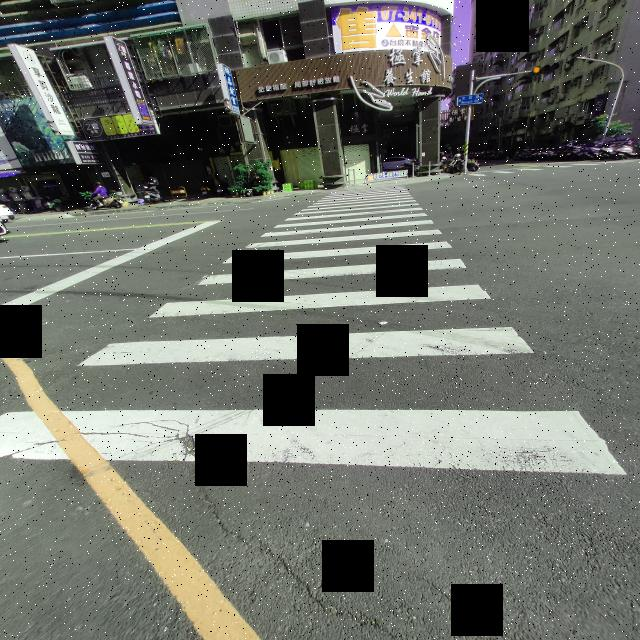zebra_crossing: (230, 85, 640, 262), (238, 91, 571, 278)
